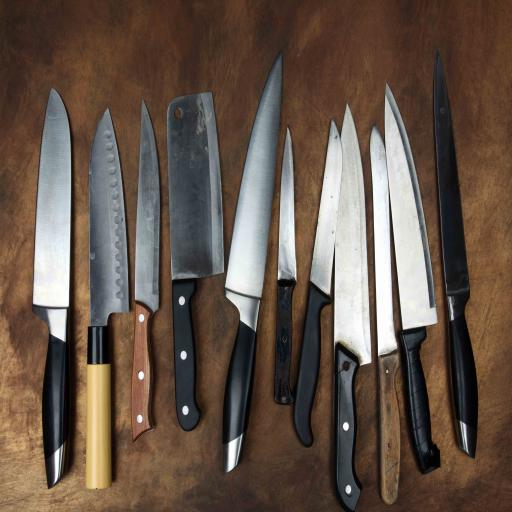knife: (29, 85, 73, 493)
